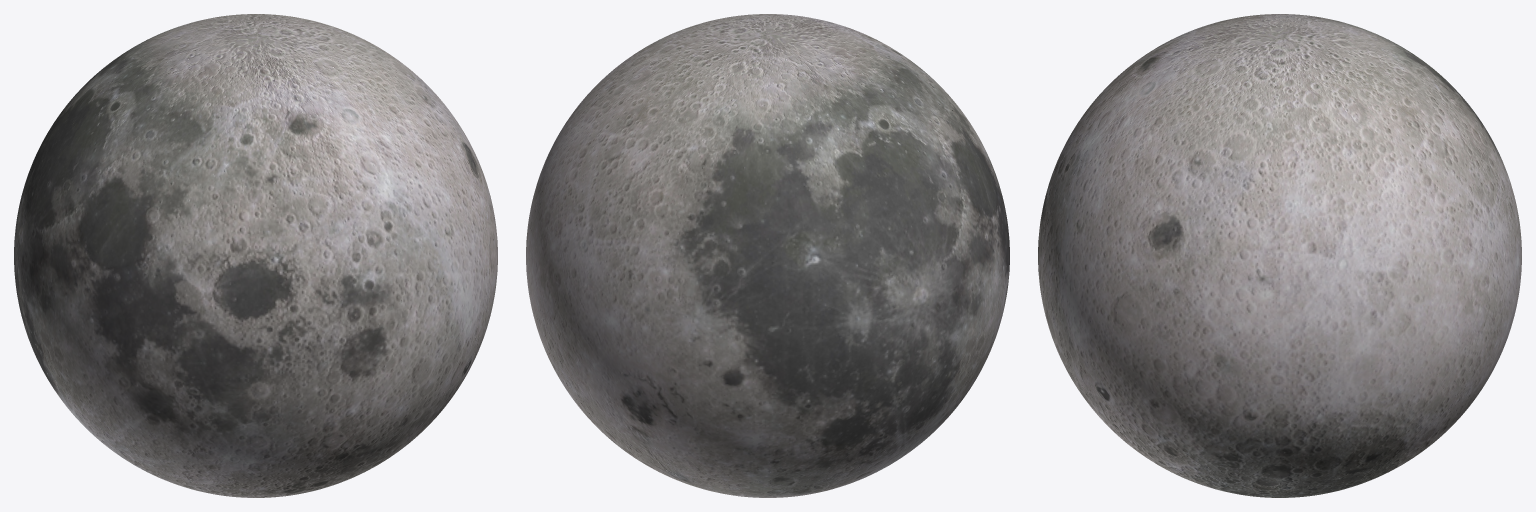
Rendered from luna.glb.
3 renders of one model, left to right at view 1: azimuth 30°, elevation 25°; view 2: azimuth 150°, elevation 25°; view 3: azimuth 270°, elevation 25°, orthographic.
Parts seen in each view (by area): view 1: Geode; view 2: Geode; view 3: Geode.
Boxes of the visible parts, x1,y1,x2,y2 form: Geode: [14, 14, 497, 497]; Geode: [526, 14, 1009, 497]; Geode: [1038, 14, 1521, 497].
Bounding box in the file's own units: 200 × 200 × 200.
1 material, 1 textured.
